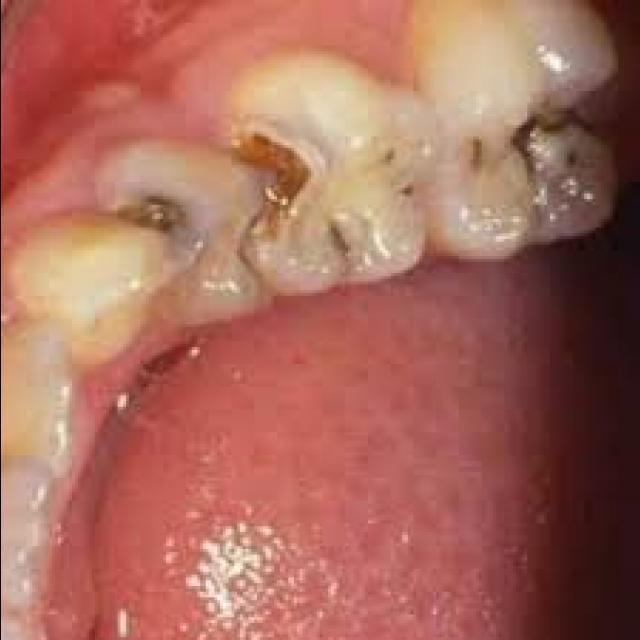decay: (514, 76, 610, 211), (228, 126, 317, 244), (114, 188, 207, 270), (457, 132, 487, 188), (327, 217, 359, 267), (393, 182, 414, 202), (378, 147, 395, 167)
